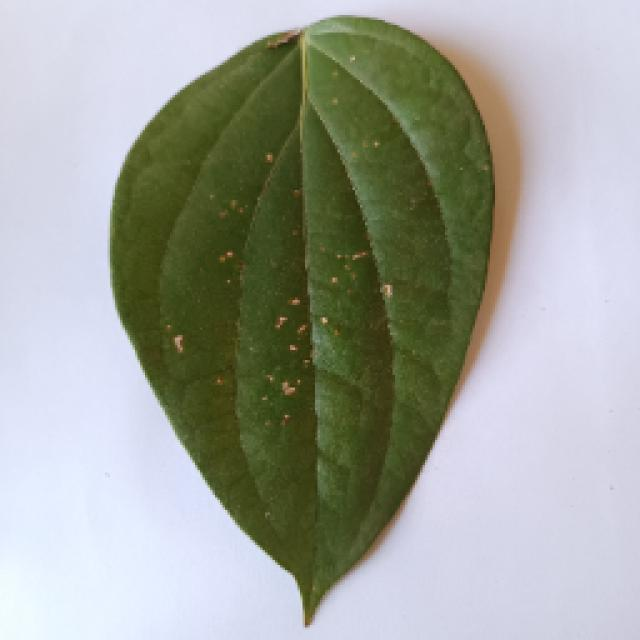pollu-disease: (52, 30, 550, 628)
